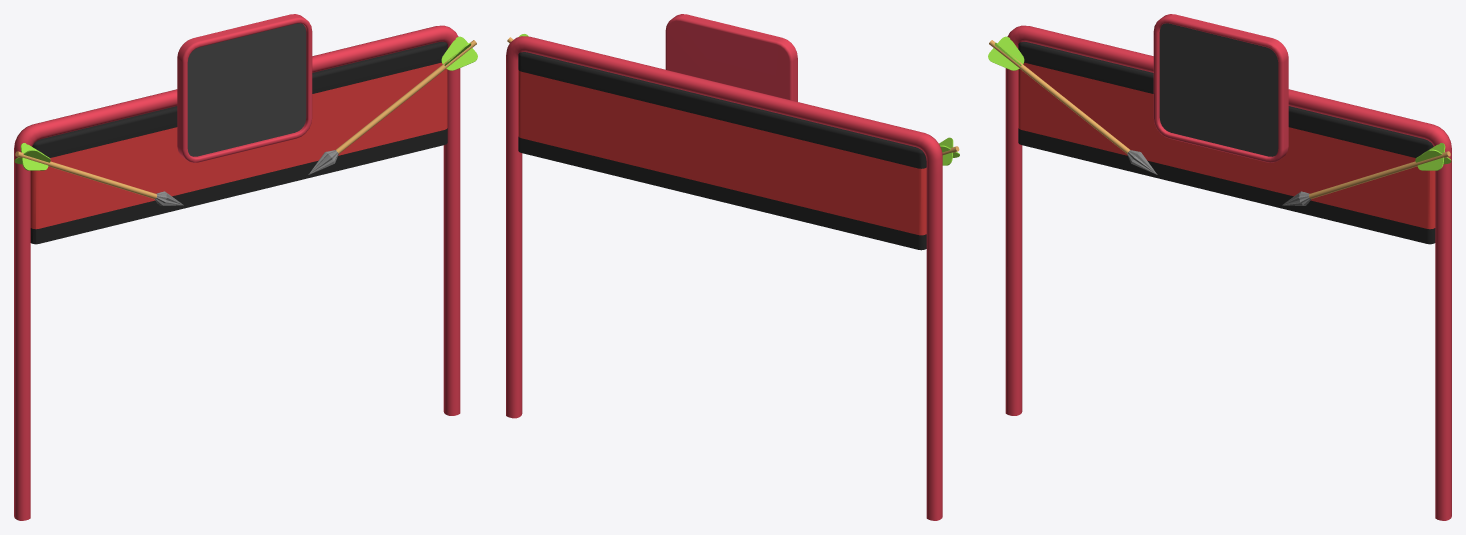
The model's file is OBS_Arrow.fbx.
3 renders of one model, left to right at view 1: azimuth 30°, elevation 25°; view 2: azimuth 150°, elevation 25°; view 3: azimuth 330°, elevation 25°, orthographic. The views are drawn at different scales.
Parts seen in each view (by area): view 1: OBS_Arrow_Mechanism, OBS_Arrow_Screen, OBS_Arrow_Frame_Vertical_R, OBS_Arrow_Frame_Vertical_L, OBS_Arrow_Frame_Horizonal, OBS_Arrow_Frame, OBS_Arrow_Symbol_R, OBS_Arrow_Symbol_L, OBS_Arrow_Frame_Corner_R; view 2: OBS_Arrow_Mechanism, OBS_Arrow_Frame, OBS_Arrow_Frame_Horizonal, OBS_Arrow_Frame_Vertical_R, OBS_Arrow_Frame_Vertical_L, OBS_Arrow_Frame_Corner_R, OBS_Arrow_Frame_Corner_L; view 3: OBS_Arrow_Mechanism, OBS_Arrow_Screen, OBS_Arrow_Frame_Vertical_L, OBS_Arrow_Frame_Vertical_R, OBS_Arrow_Frame_Horizonal, OBS_Arrow_Frame, OBS_Arrow_Symbol_L, OBS_Arrow_Symbol_R, OBS_Arrow_Frame_Corner_L.
Part boxes in pixels (bbox=[...]): OBS_Arrow_Mechanism: bbox=[30, 42, 447, 244]; OBS_Arrow_Screen: bbox=[187, 23, 306, 156]; OBS_Arrow_Frame_Vertical_R: bbox=[14, 164, 30, 520]; OBS_Arrow_Frame_Vertical_L: bbox=[443, 68, 460, 415]; OBS_Arrow_Frame_Horizonal: bbox=[45, 29, 430, 136]; OBS_Arrow_Frame: bbox=[177, 14, 312, 162]; OBS_Arrow_Symbol_R: bbox=[308, 36, 477, 174]; OBS_Arrow_Symbol_L: bbox=[14, 143, 183, 205]; OBS_Arrow_Frame_Corner_R: bbox=[14, 121, 51, 167]; OBS_Arrow_Mechanism: bbox=[518, 52, 926, 250]; OBS_Arrow_Frame: bbox=[665, 14, 797, 101]; OBS_Arrow_Frame_Horizonal: bbox=[535, 39, 911, 144]; OBS_Arrow_Frame_Vertical_R: bbox=[926, 172, 942, 520]; OBS_Arrow_Frame_Vertical_L: bbox=[506, 70, 522, 418]; OBS_Arrow_Frame_Corner_R: bbox=[906, 130, 942, 175]; OBS_Arrow_Frame_Corner_L: bbox=[506, 36, 541, 72]; OBS_Arrow_Mechanism: bbox=[1018, 42, 1435, 244]; OBS_Arrow_Screen: bbox=[1159, 23, 1278, 156]; OBS_Arrow_Frame_Vertical_L: bbox=[1435, 164, 1451, 520]; OBS_Arrow_Frame_Vertical_R: bbox=[1005, 68, 1022, 415]; OBS_Arrow_Frame_Horizonal: bbox=[1035, 29, 1420, 136]; OBS_Arrow_Frame: bbox=[1153, 14, 1288, 162]; OBS_Arrow_Symbol_L: bbox=[988, 36, 1157, 174]; OBS_Arrow_Symbol_R: bbox=[1282, 143, 1451, 205]; OBS_Arrow_Frame_Corner_L: bbox=[1414, 121, 1451, 167].
Size of the model in its own units: 948 by 870 by 69.36.
